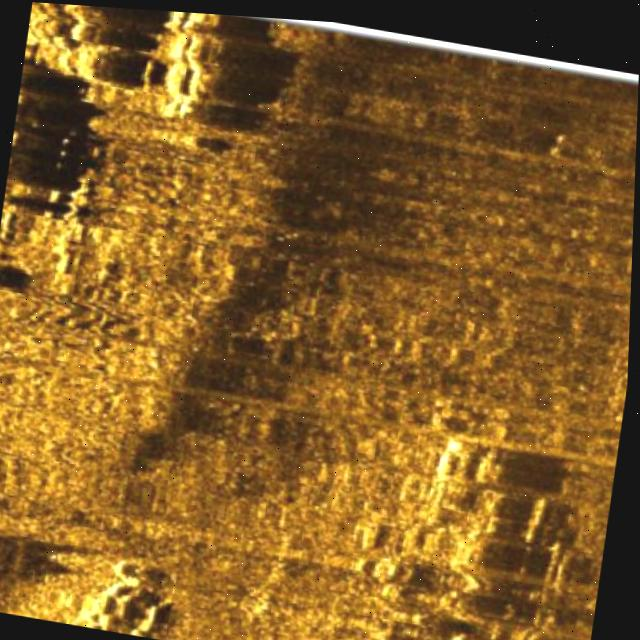bedrock group: (19, 1, 236, 122)
